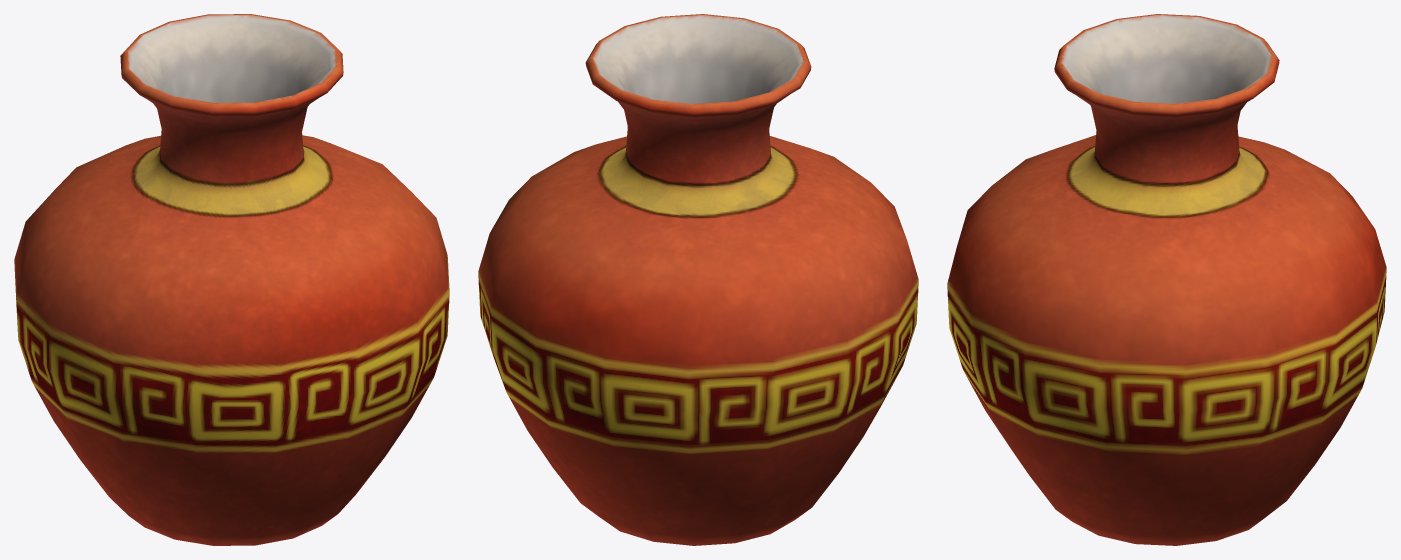
Rendered from SM_Vase4.glb.
3 views of the same model, side by side, from view 1: azimuth 30°, elevation 25°; view 2: azimuth 150°, elevation 25°; view 3: azimuth 270°, elevation 25° (orthographic).
Parts seen in each view (by area): view 1: SM_Vase4_LOD0; view 2: SM_Vase4_LOD0; view 3: SM_Vase4_LOD0.
Part boxes in pixels (x1,y1,x2,y2): SM_Vase4_LOD0: [14, 14, 449, 545]; SM_Vase4_LOD0: [478, 14, 918, 545]; SM_Vase4_LOD0: [947, 14, 1386, 545].
Size of the model in its own units: 0.3572 by 0.396 by 0.3572.
1 material, 1 textured.
